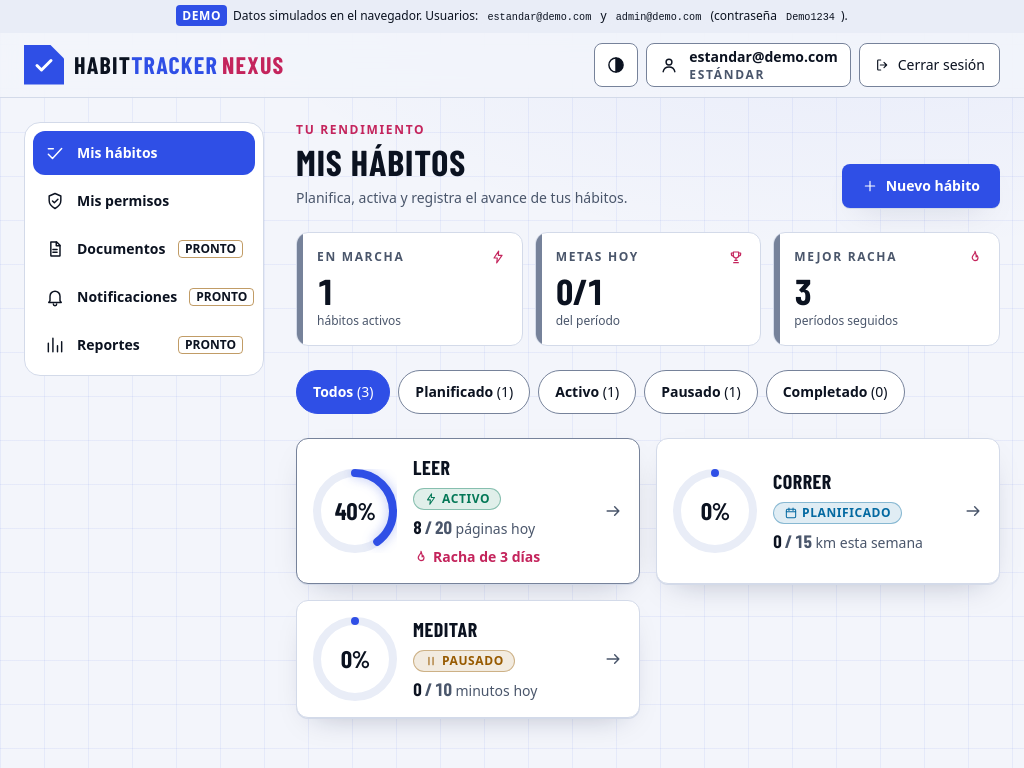
it: rutas protegidas y navegación por rol › una sesión revocada en el servidor se cierra al recibir 401
Expected: the heading "Leer" is shown, [413,455,450,480]
Click the link "Mis permisos".
click(107, 201)  # box [45,191,169,211]
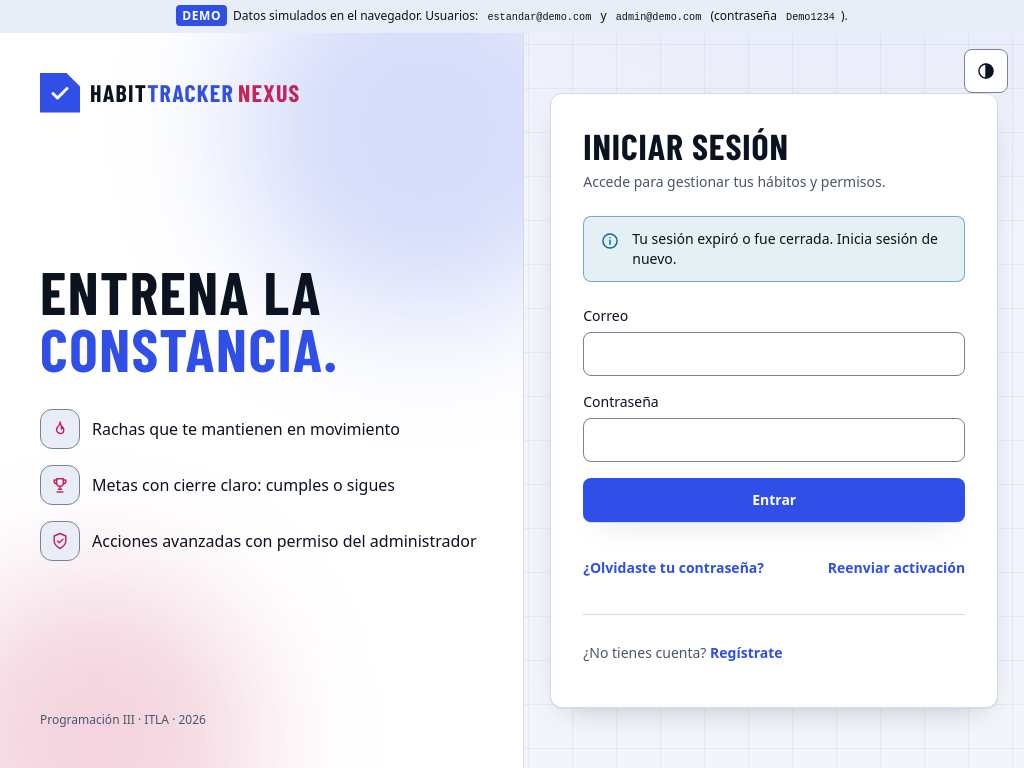
Expected: the heading "Iniciar sesión" is shown, [583,124,789,167]
